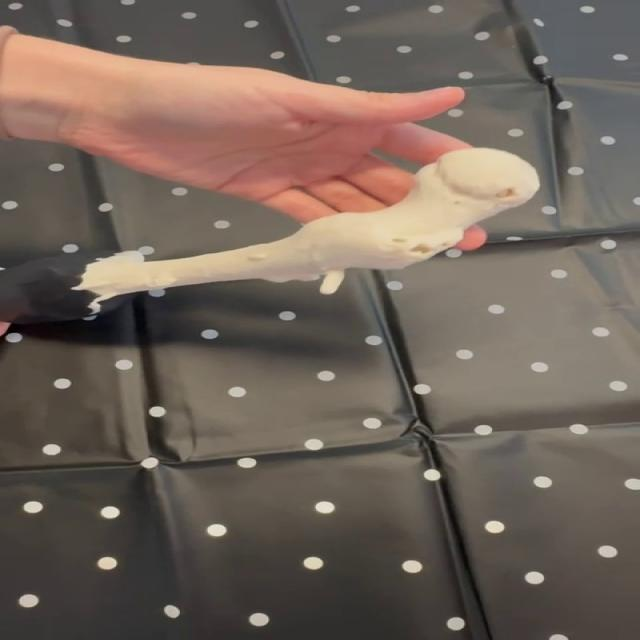bones: (0, 148, 539, 324)
